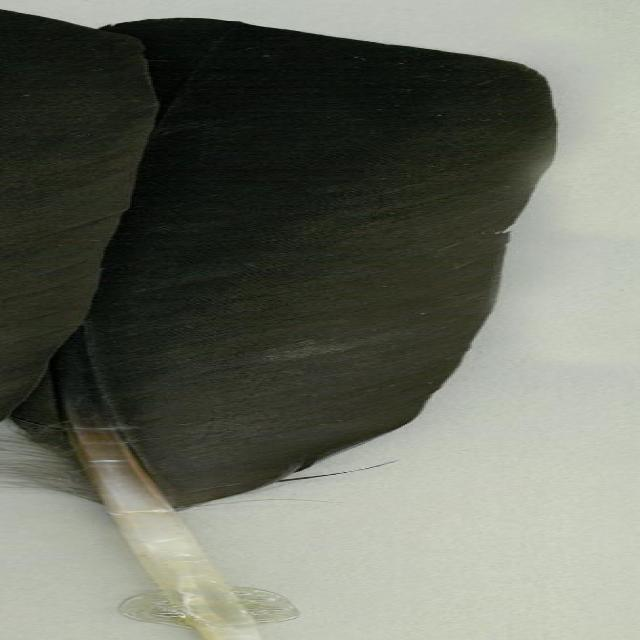feather: (0, 15, 579, 640)
